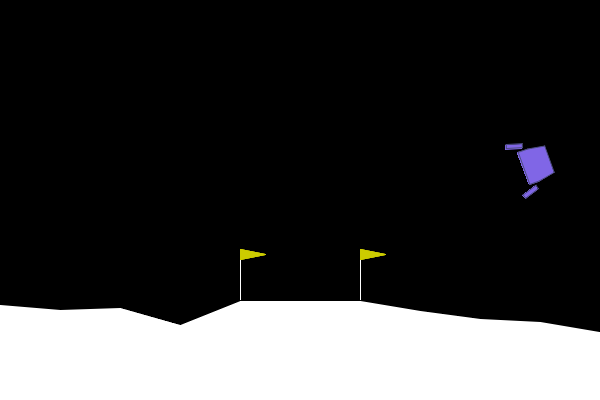lander: (503, 131, 561, 201)
